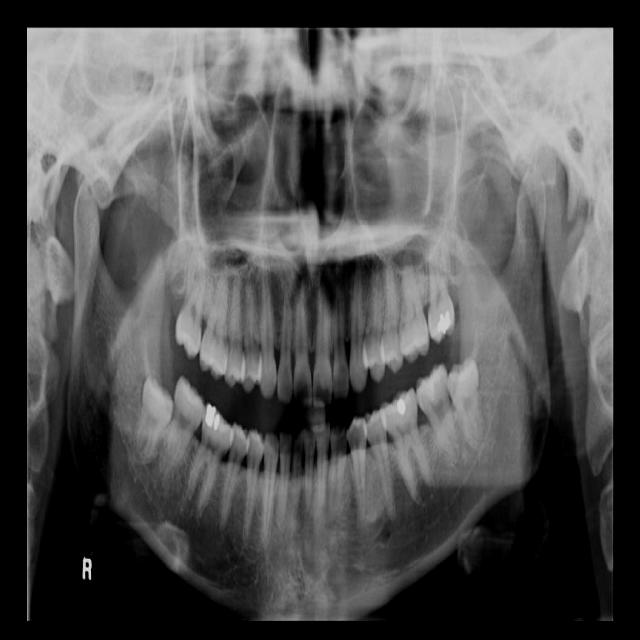Filling: (435, 308, 453, 337), (203, 403, 222, 430), (391, 396, 411, 419)
impacted tooth: (132, 378, 174, 460), (448, 357, 484, 446)
